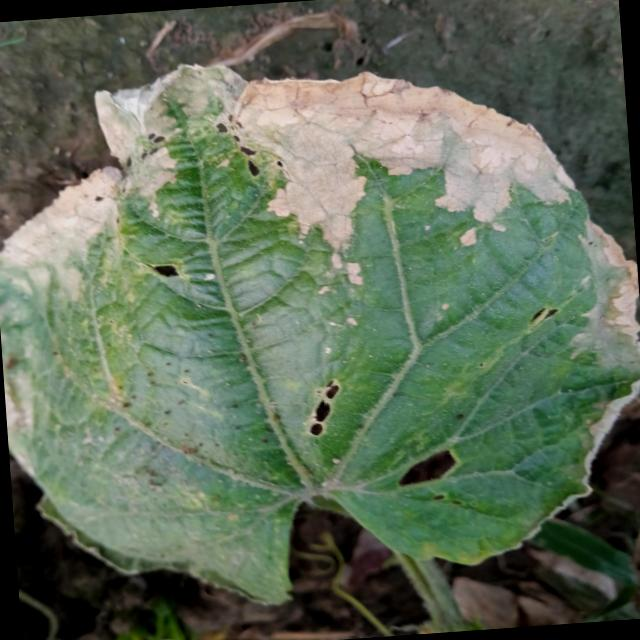cucumber_gummy: (0, 29, 640, 626)
